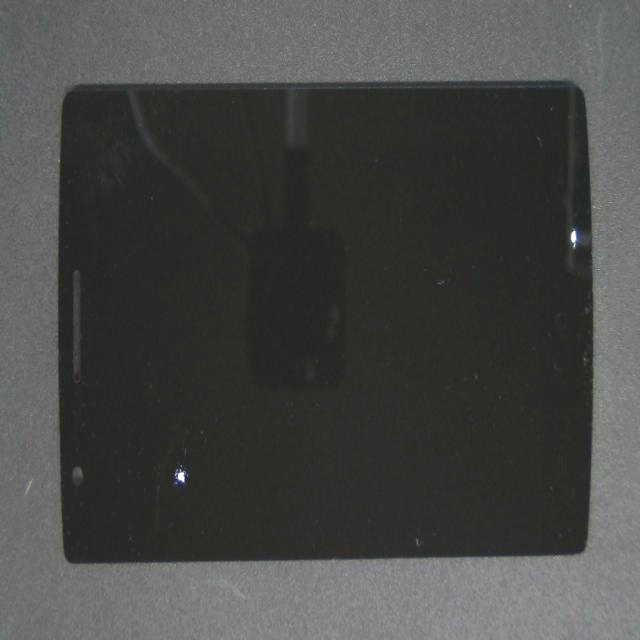stain: (288, 141, 640, 423), (96, 230, 256, 640)
